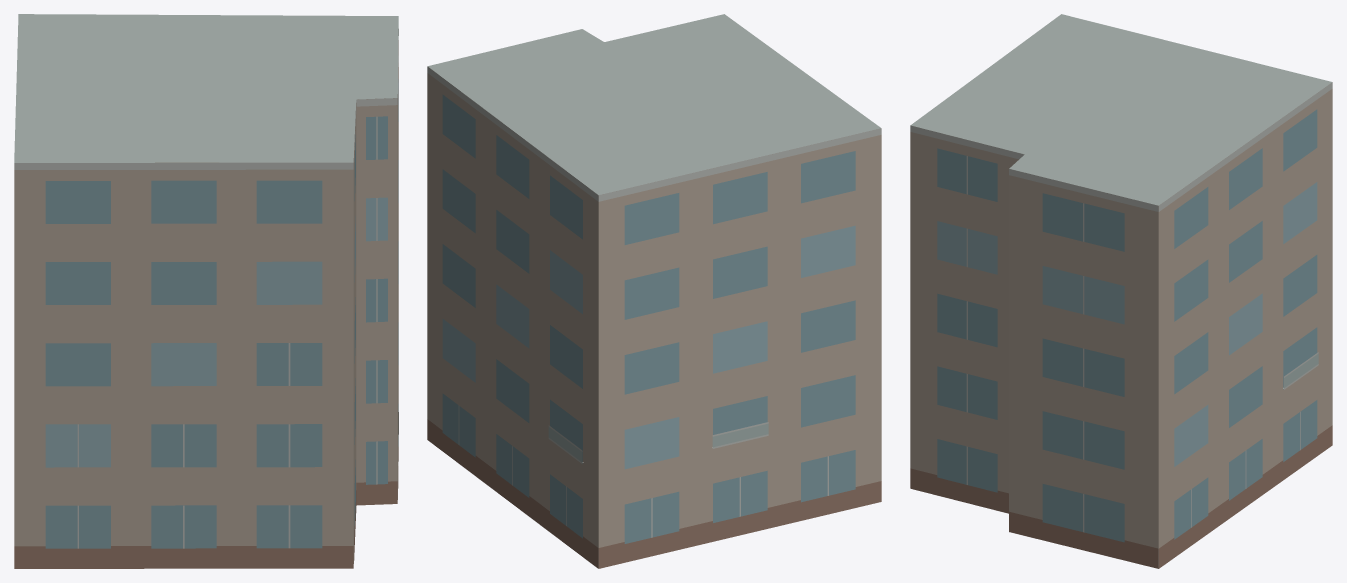
Rendered from survey-upis-33011911.glb.
The picture shows the model from 3 angles, left to right: view 1: azimuth 30°, elevation 25°; view 2: azimuth 150°, elevation 25°; view 3: azimuth 270°, elevation 25°; orthographic projection. The views are drawn at different scales.
Parts seen in each view (by area): view 1: survey-upis-33011911.tmp; view 2: survey-upis-33011911.tmp; view 3: survey-upis-33011911.tmp.
Boxes of the visible parts, box(x1,y1,x2,y2) form: survey-upis-33011911.tmp: box(14, 14, 398, 568); survey-upis-33011911.tmp: box(427, 14, 881, 568); survey-upis-33011911.tmp: box(910, 14, 1332, 568).
Bounding box in the file's own units: 15.68 × 13.85 × 14.6.
